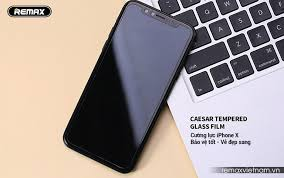iphone: (62, 1, 198, 172)
iphone10: (62, 1, 198, 172)
